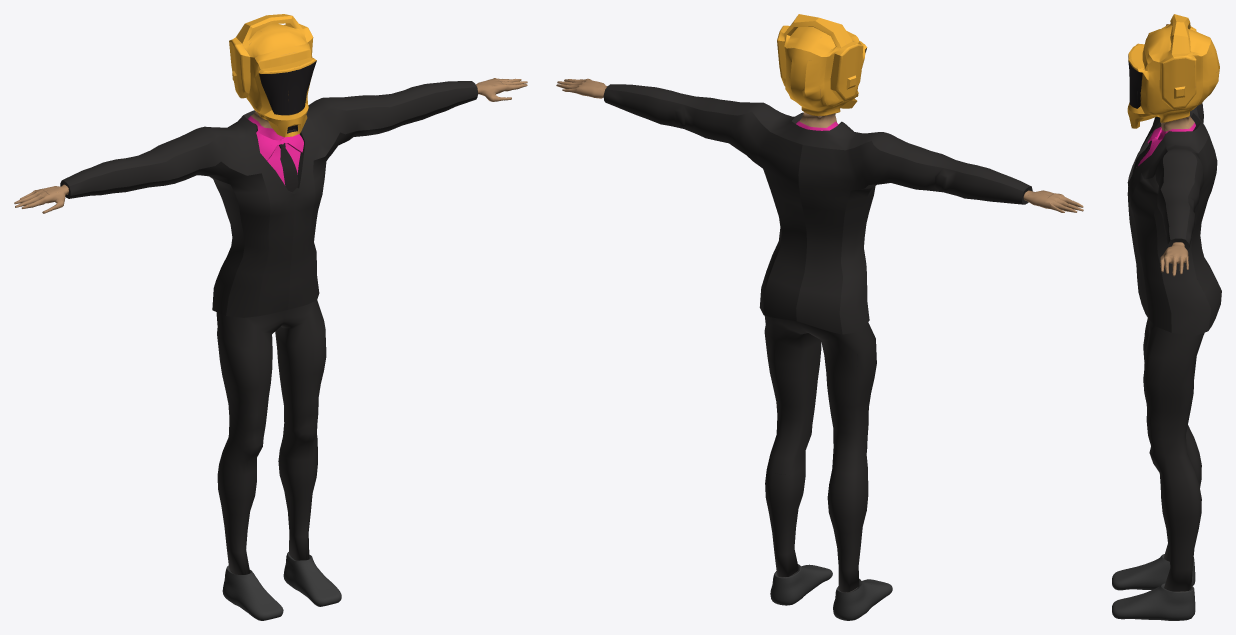
The model's file is character_base.obj.
The picture shows the model from 3 angles, left to right: view 1: azimuth 30°, elevation 25°; view 2: azimuth 150°, elevation 25°; view 3: azimuth 270°, elevation 25°; orthographic projection. The views are drawn at different scales.
Visible parts, largest first — view 1: suit_Baked, pants_Baked, body_Baked, boots_Baked, kołniezyk_Baked; view 2: suit_Baked, pants_Baked, body_Baked, boots_Baked; view 3: suit_Baked, pants_Baked, body_Baked, boots_Baked, kołniezyk_Baked.
Boxes of the visible parts, x1,y1,x2,y2 form: suit_Baked: (60,81,477,317); pants_Baked: (216,300,326,574); body_Baked: (14,14,527,573); boots_Baked: (222,552,341,620); kołniezyk_Baked: (256,131,303,192); suit_Baked: (603,84,1032,334); pants_Baked: (764,316,876,592); body_Baked: (556,14,1083,592); boots_Baked: (770,564,892,620); suit_Baked: (1127,103,1221,335); pants_Baked: (1143,318,1204,591); body_Baked: (1127,14,1219,592); boots_Baked: (1112,554,1195,620); kołniezyk_Baked: (1132,127,1162,174).
Size of the model in its own units: 3.45 by 3.69 by 0.6349.
5 materials, 5 textured.
